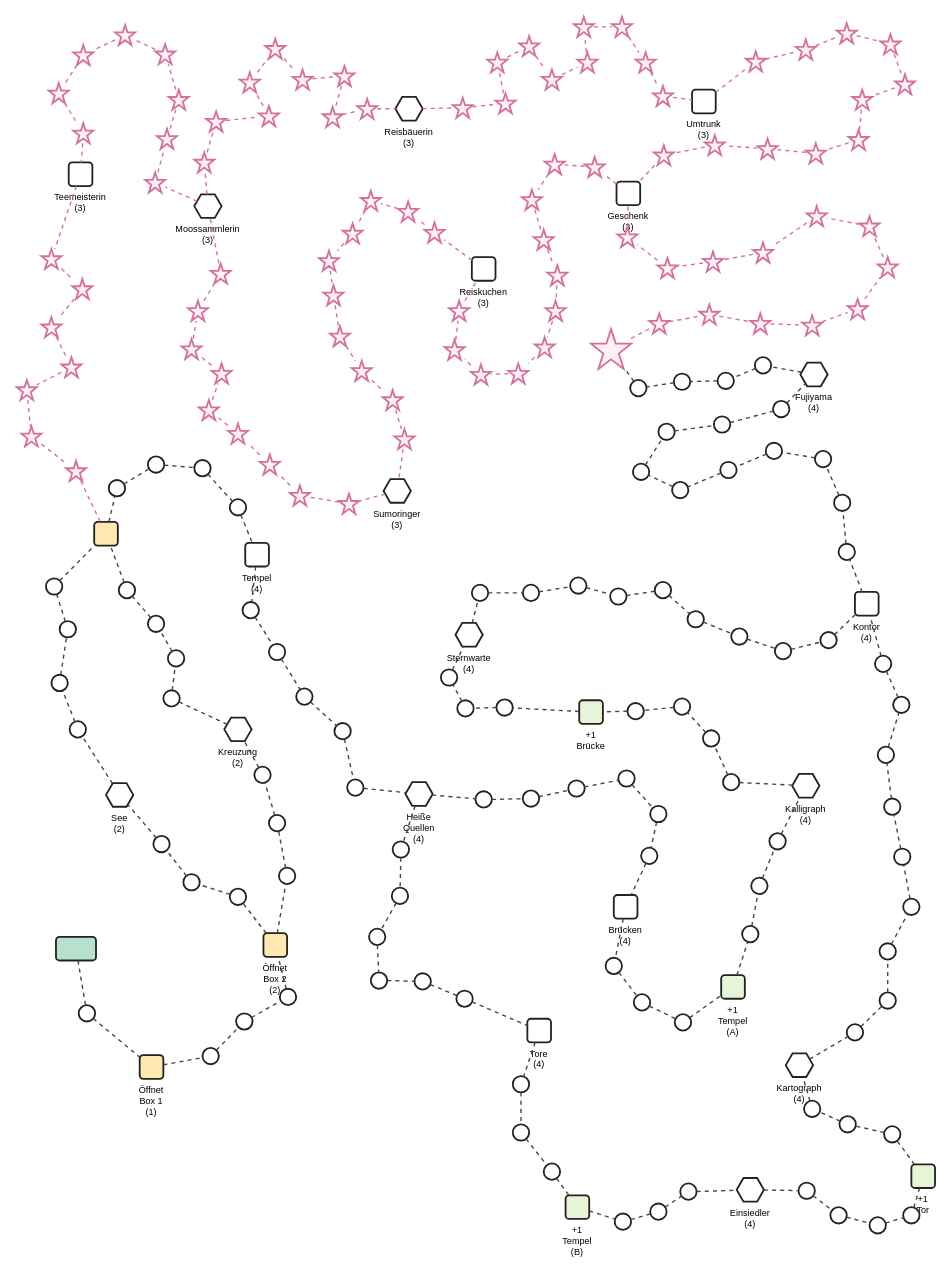
This 951x1273 diagram has some shape labels left out. The shapes that lost their labels are listed below. From the top down, each one's centre as x and y in pixels, then its label:
the point at 611,348: 30 Blüten
the point at 105,533: Öffnet Box 3 (3)
the point at 75,948: Start
